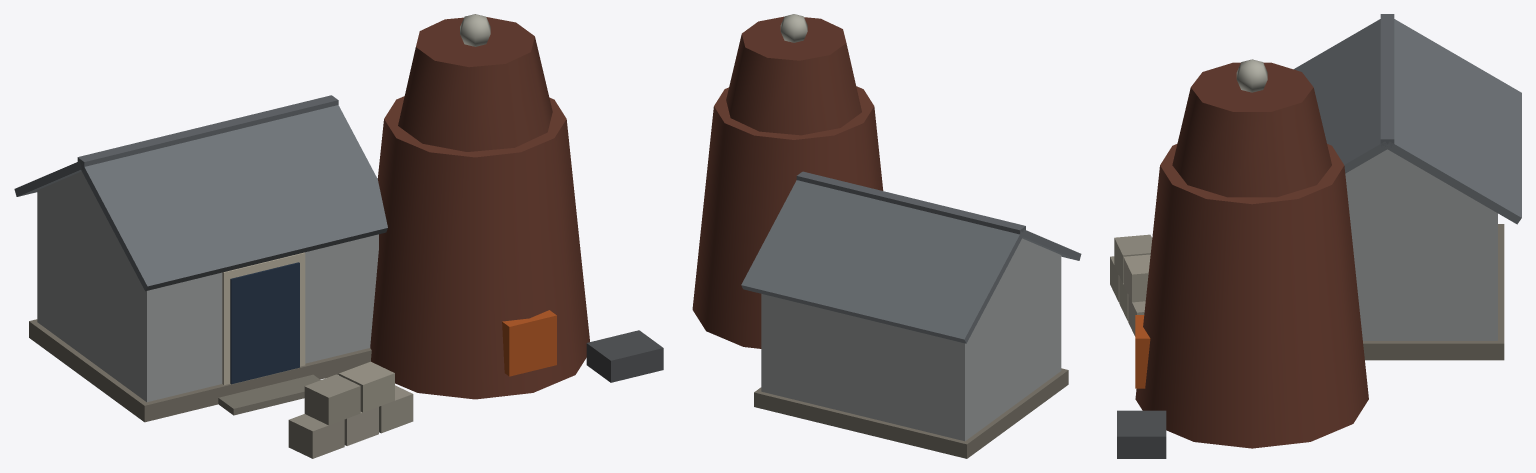
The model's file is procedural_smelter@6.glb.
The picture shows the model from 3 angles, left to right: view 1: azimuth 30°, elevation 25°; view 2: azimuth 150°, elevation 25°; view 3: azimuth 270°, elevation 25°; orthographic projection. The views are drawn at different scales.
Visible parts, largest first — view 1: part_0, part_4; view 2: part_0, part_4; view 3: part_0, part_4.
Boxes of the visible parts, x1=… form: part_0: x1=14, y1=17, x2=663, y2=458; part_4: x1=460, y1=14, x2=490, y2=46; part_0: x1=692, y1=16, x2=1081, y2=458; part_4: x1=780, y1=14, x2=807, y2=42; part_0: x1=1110, y1=14, x2=1521, y2=458; part_4: x1=1236, y1=59, x2=1267, y2=92.
Bounding box in the file's own units: 8.51 × 6.09 × 6.7.
